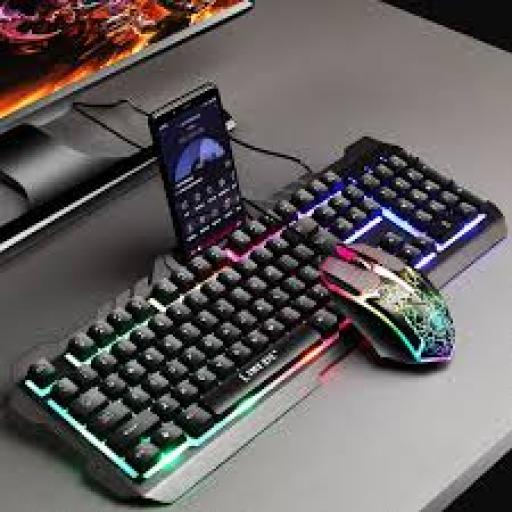keyboard: (14, 139, 503, 501)
